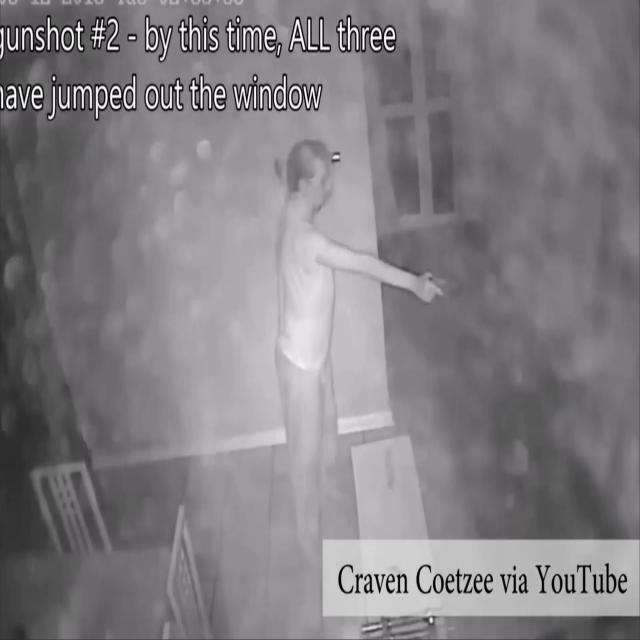Gun: (420, 270, 458, 308)
